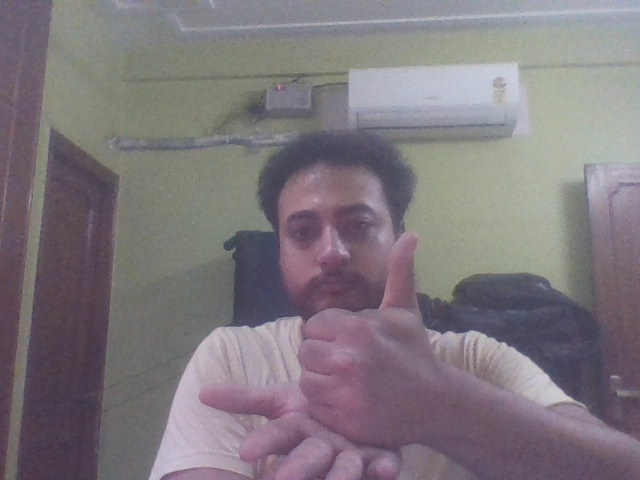Help: (195, 231, 572, 480)
